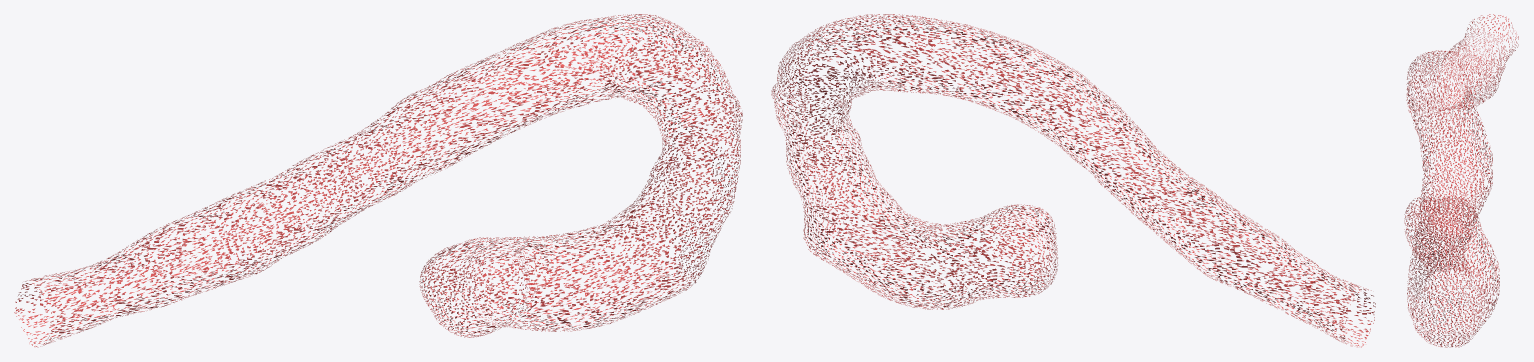
File: aorta.glb
3 renders of one model, left to right at view 1: azimuth 30°, elevation 25°; view 2: azimuth 150°, elevation 25°; view 3: azimuth 270°, elevation 25°, orthographic. The views are drawn at different scales.
Bounding box in the file's own units: 278 × 120 × 52.53.
